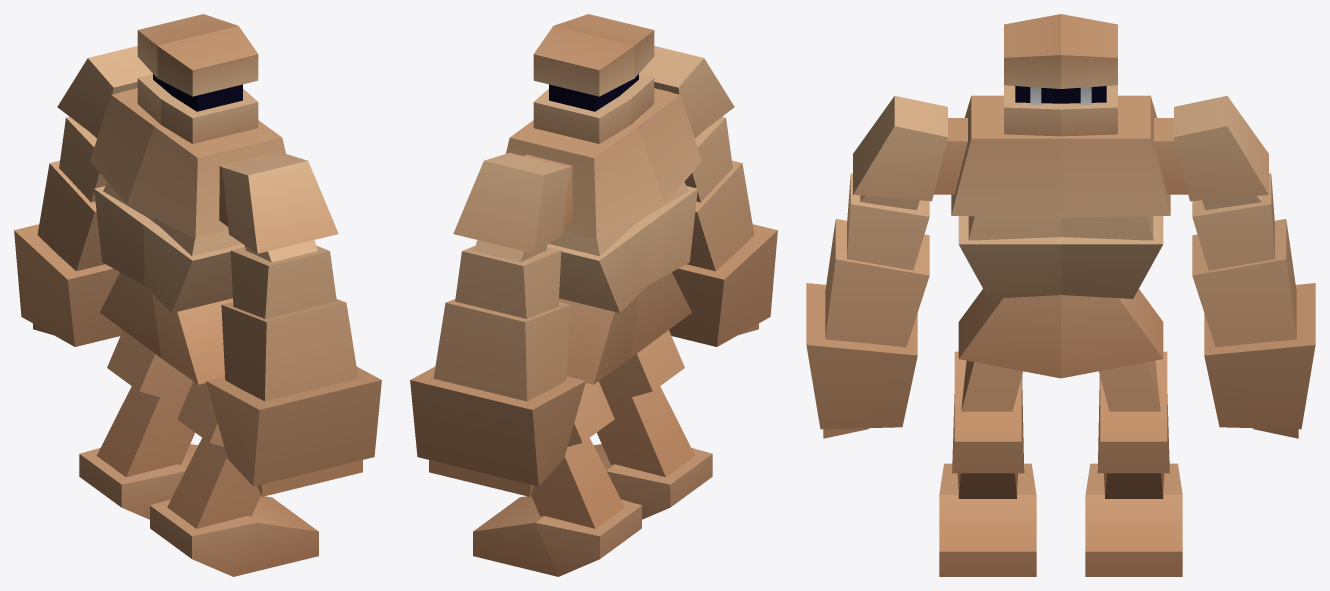
File: Golem.fbx
3 renders of one model, left to right at view 1: azimuth 30°, elevation 25°; view 2: azimuth 150°, elevation 25°; view 3: azimuth 270°, elevation 25°, orthographic. The views are drawn at different scales.
Visible parts, largest first — view 1: Golem; view 2: Golem; view 3: Golem.
Boxes of the visible parts, left/top/right/bottom form: Golem: left=14, top=14, right=381, bottom=576; Golem: left=410, top=14, right=777, bottom=576; Golem: left=806, top=14, right=1315, bottom=576.
Size of the model in its own units: 5.22 by 1.64 by 5.78.
